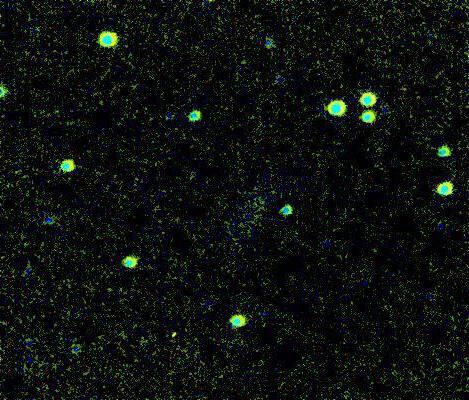star: (161, 320, 191, 350)
